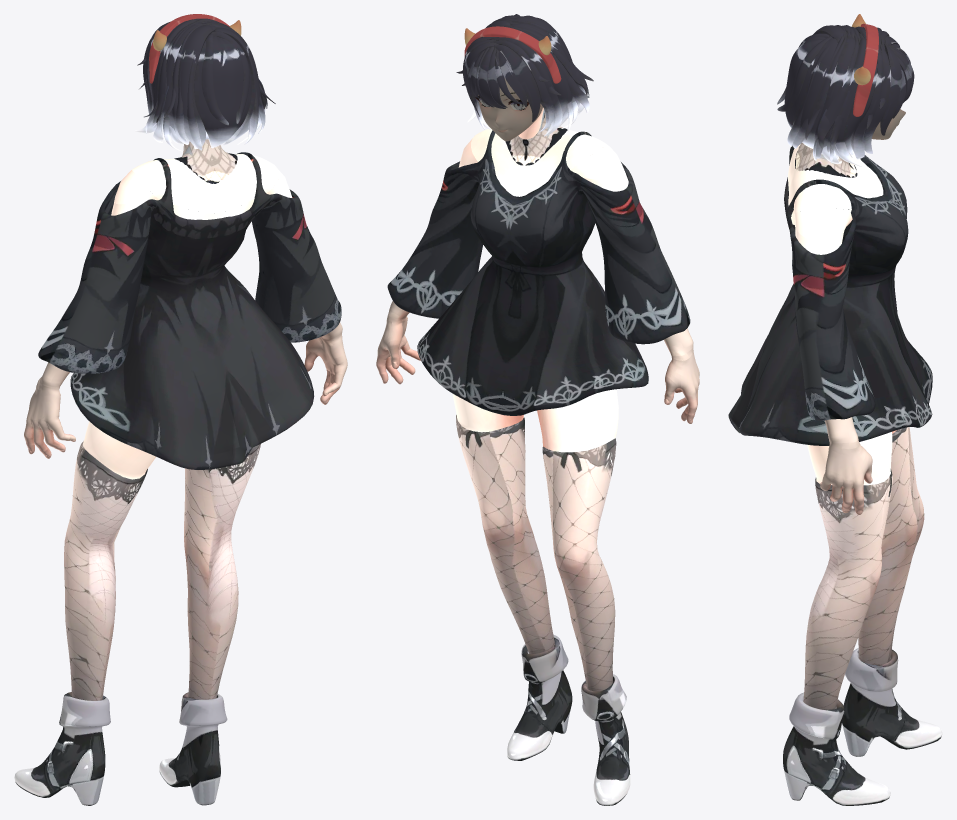
File: mia.glb
The picture shows the model from 3 angles, left to right: view 1: azimuth 30°, elevation 25°; view 2: azimuth 150°, elevation 25°; view 3: azimuth 270°, elevation 25°; orthographic projection. The views are drawn at different scales.
Visible parts, largest first — view 1: Object_32.001, Object_30.001, Object_19.001, Object_26.001, Object_34.001, Object_36.001, Object_17.001, Object_21.001; view 2: Object_32.001, Object_30.001, Object_26.001, Object_19.001, Object_34.001, Object_36.001, Object_23.001, Object_21.001, Object_17.001; view 3: Object_32.001, Object_30.001, Object_19.001, Object_26.001, Object_34.001, Object_36.001, Object_21.001, Object_17.001.
Part boxes in pixels (bbox=[...]): Object_32.001: bbox=[14, 152, 341, 805]; Object_30.001: bbox=[64, 139, 260, 700]; Object_19.001: bbox=[143, 18, 275, 150]; Object_26.001: bbox=[83, 154, 278, 479]; Object_34.001: bbox=[24, 322, 347, 458]; Object_36.001: bbox=[111, 169, 292, 219]; Object_17.001: bbox=[135, 57, 267, 151]; Object_21.001: bbox=[149, 14, 241, 83]; Object_32.001: bbox=[387, 130, 690, 805]; Object_30.001: bbox=[456, 109, 616, 691]; Object_26.001: bbox=[452, 107, 618, 452]; Object_19.001: bbox=[463, 14, 593, 136]; Object_34.001: bbox=[376, 301, 699, 423]; Object_36.001: bbox=[458, 138, 628, 191]; Object_23.001: bbox=[475, 77, 542, 141]; Object_21.001: bbox=[464, 26, 561, 83]; Object_17.001: bbox=[456, 67, 589, 131]; Object_32.001: bbox=[728, 146, 942, 805]; Object_30.001: bbox=[795, 142, 924, 709]; Object_19.001: bbox=[777, 25, 914, 163]; Object_26.001: bbox=[788, 144, 896, 485]; Object_34.001: bbox=[820, 417, 872, 514]; Object_36.001: bbox=[788, 185, 852, 254]; Object_21.001: bbox=[851, 14, 878, 116]; Object_17.001: bbox=[813, 98, 885, 166].
Bounding box in the file's own units: 1.2 × 2.68 × 0.6692.
9 materials, 6 textured.
